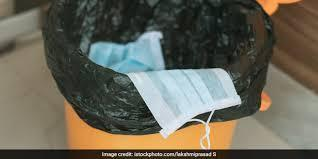Mask: (89, 32, 240, 148), (89, 31, 164, 72)
